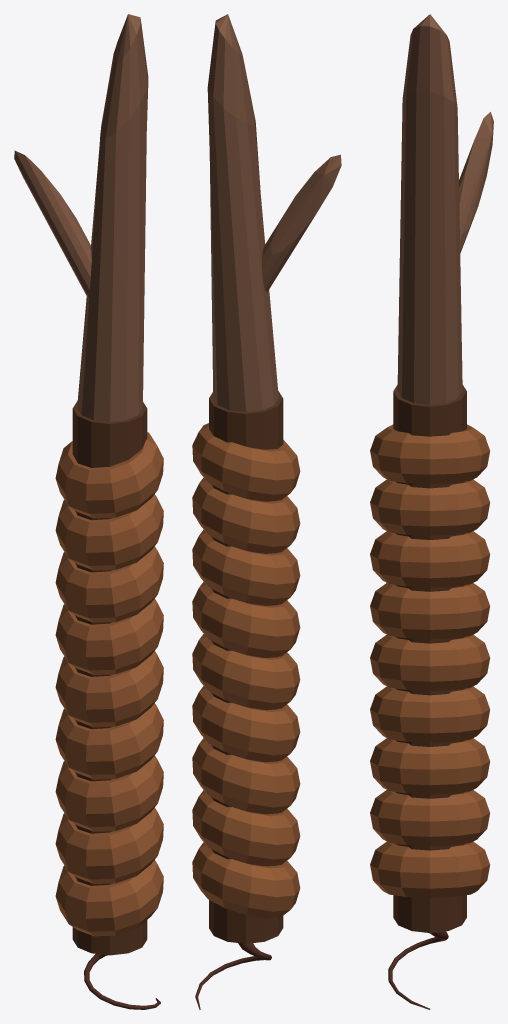
File: Wand 469.glb
3 renders of one model, left to right at view 1: azimuth 30°, elevation 25°; view 2: azimuth 210°, elevation 25°; view 3: azimuth 270°, elevation 25°, orthographic.
Visible parts, largest first — view 1: GeneratedWand; view 2: GeneratedWand; view 3: GeneratedWand.
Part boxes in pixels (box(x1,y1,x2,y2)): GeneratedWand: box(14, 14, 163, 1009); GeneratedWand: box(192, 14, 341, 1009); GeneratedWand: box(370, 14, 493, 1009).
Size of the model in its own units: 0.0615 by 0.5239 by 0.0599.
